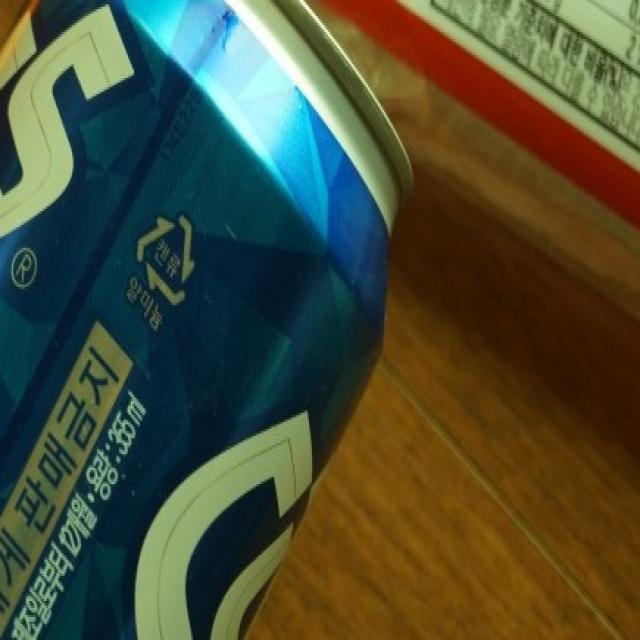Can: (134, 197, 198, 311)
